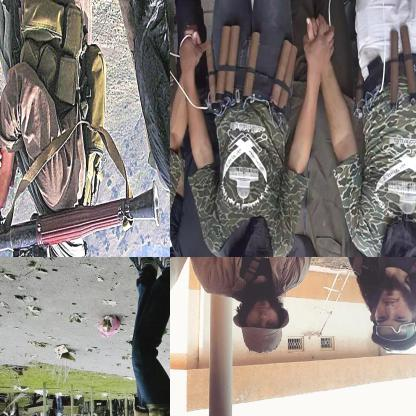rifle: (0, 177, 160, 256)
